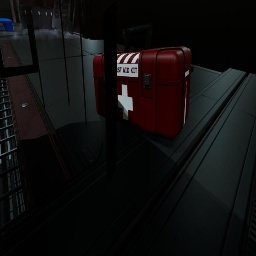FirstAidBox ,: (93, 23, 192, 141)
